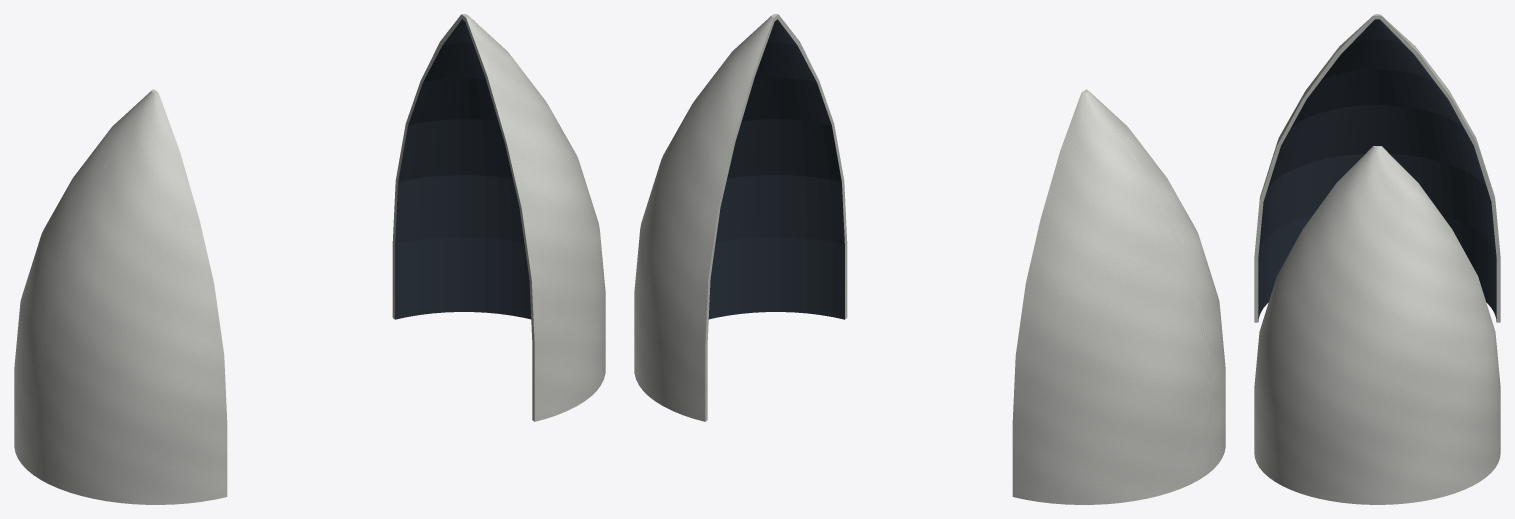
The model's file is fairing_separated.glb.
3 views of the same model, side by side, from view 1: azimuth 30°, elevation 25°; view 2: azimuth 150°, elevation 25°; view 3: azimuth 270°, elevation 25° (orthographic). The views are drawn at different scales.
Visible parts, largest first — view 1: Fairing_Shell_Left, Fairing_Shell_Right; view 2: Fairing_Shell_Left, Fairing_Shell_Right; view 3: Fairing_Shell_Right, Fairing_Shell_Left.
Part boxes in pixels (<box>): Fairing_Shell_Left: <box>14,89,227,504</box>; Fairing_Shell_Right: <box>392,14,605,421</box>; Fairing_Shell_Left: <box>1012,89,1225,504</box>; Fairing_Shell_Right: <box>634,14,847,421</box>; Fairing_Shell_Right: <box>1254,146,1500,504</box>; Fairing_Shell_Left: <box>1254,14,1500,322</box>.
Size of the model in its own units: 5.4 by 3.3 by 2.4.
Materials: 2 (1 with a texture image).
